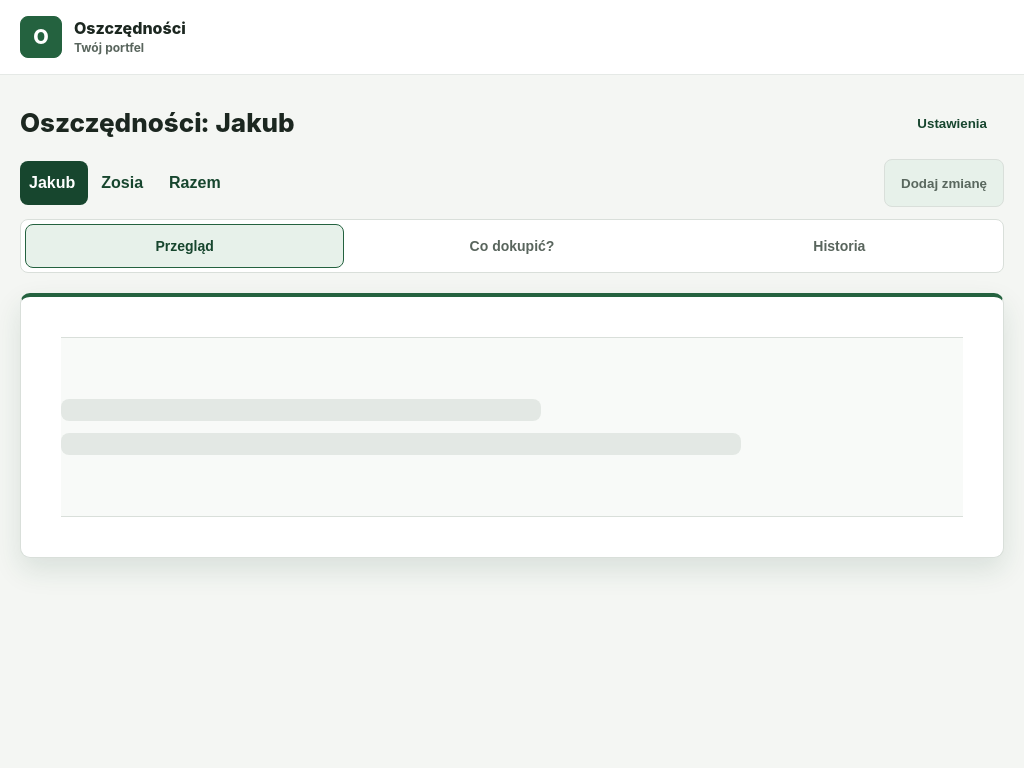
Test: Savings workspace › keeps household plan, history and settings available
This screenshot has width=1024, height=768.
Click the button "Razem".
click(197, 183)  # box [160,161,234,205]
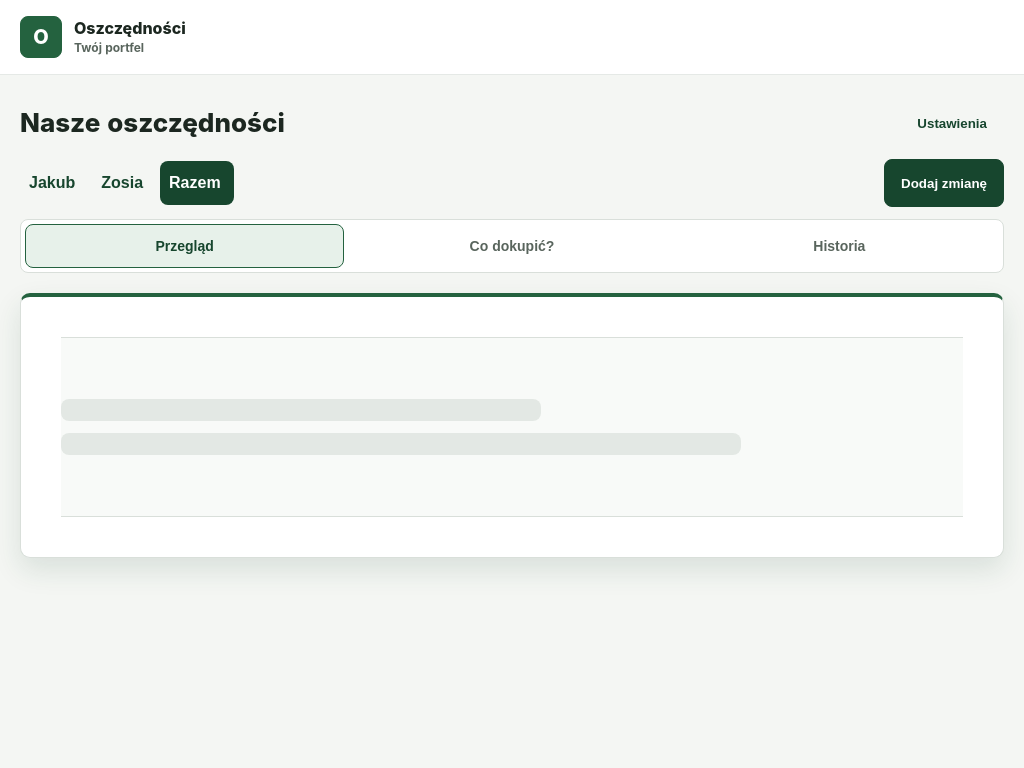
Expected: the heading "Nasze oszczędności" is shown, [20,109,285,137]
Click the tab "Co dokupić?".
click(512, 246)  # box [352,224,672,268]
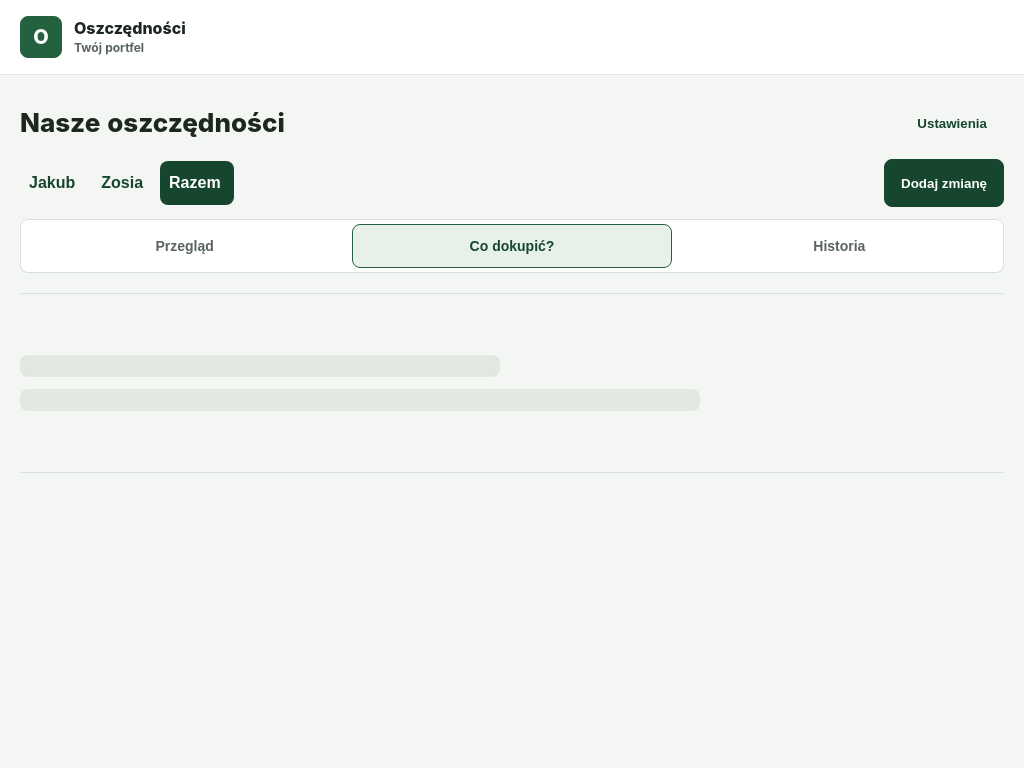
Expected: the panel named "Co dokupić?" is shown, [20,293,1004,473]
Click the button "Ustawienia".
click(952, 123)  # box [900,99,1004,147]
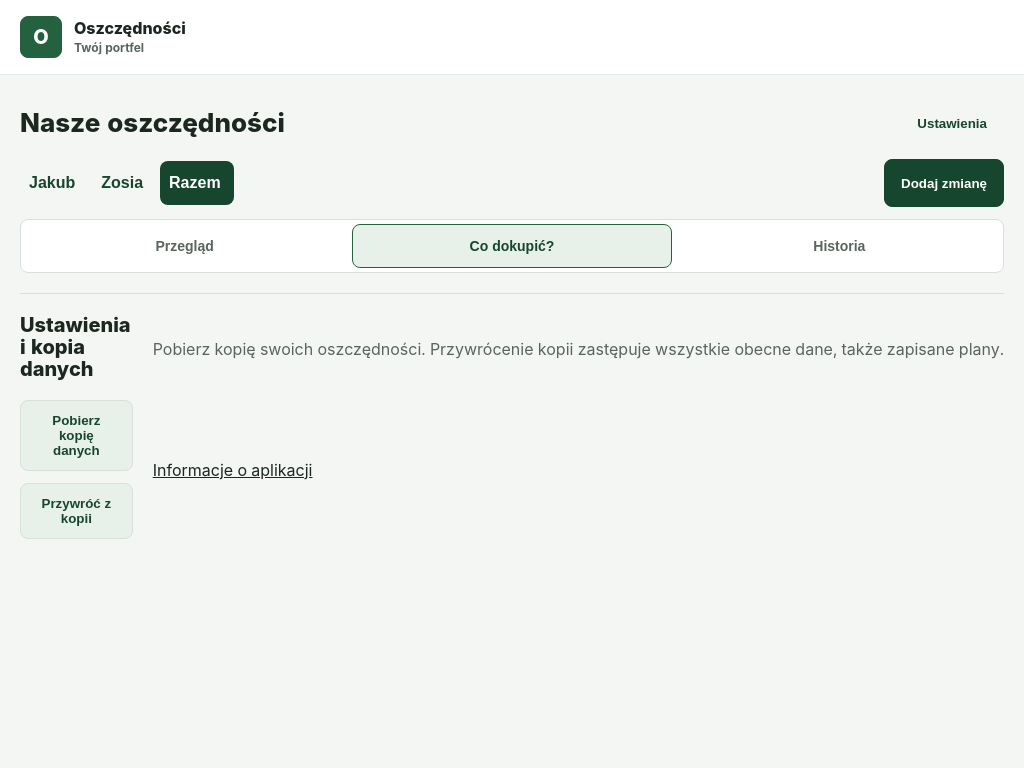
Expected: the heading "Ustawienia i kopia danych" is shown, [20,314,133,380]
Click the tab "Historia".
click(839, 246)  # box [680,224,999,268]
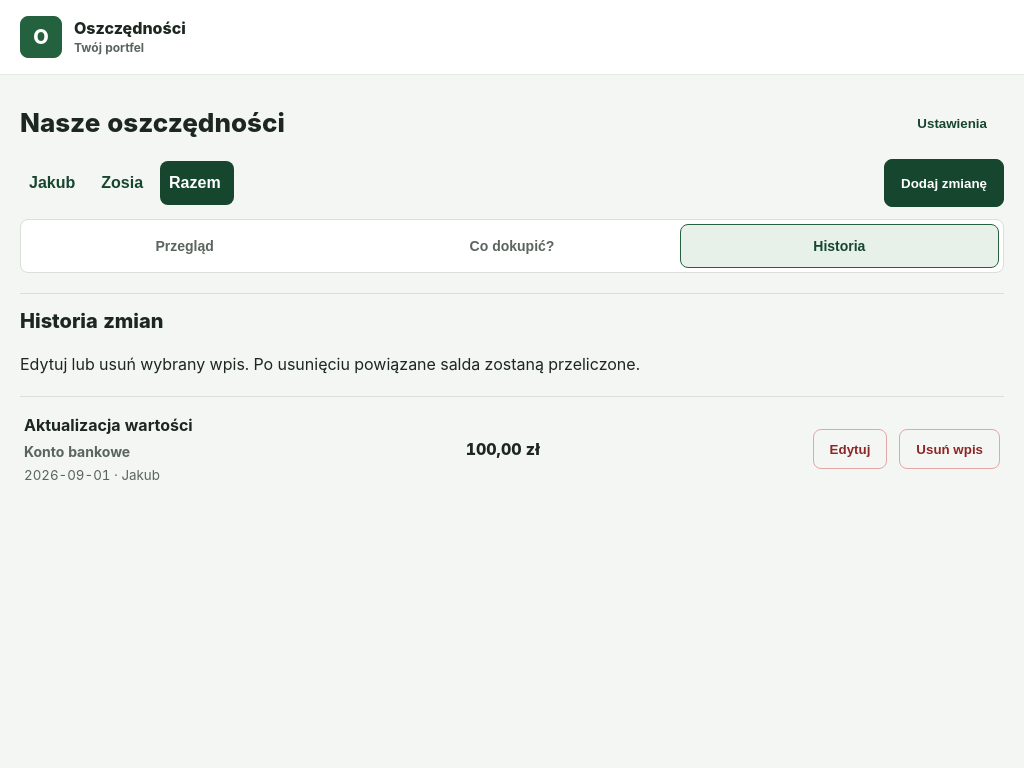
Expected: the panel "Historia" is shown, [20,293,1004,502]
